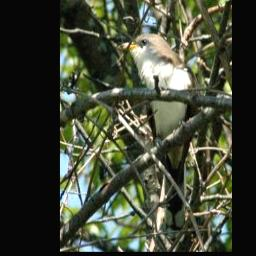Cuckoo: (116, 32, 201, 239)
